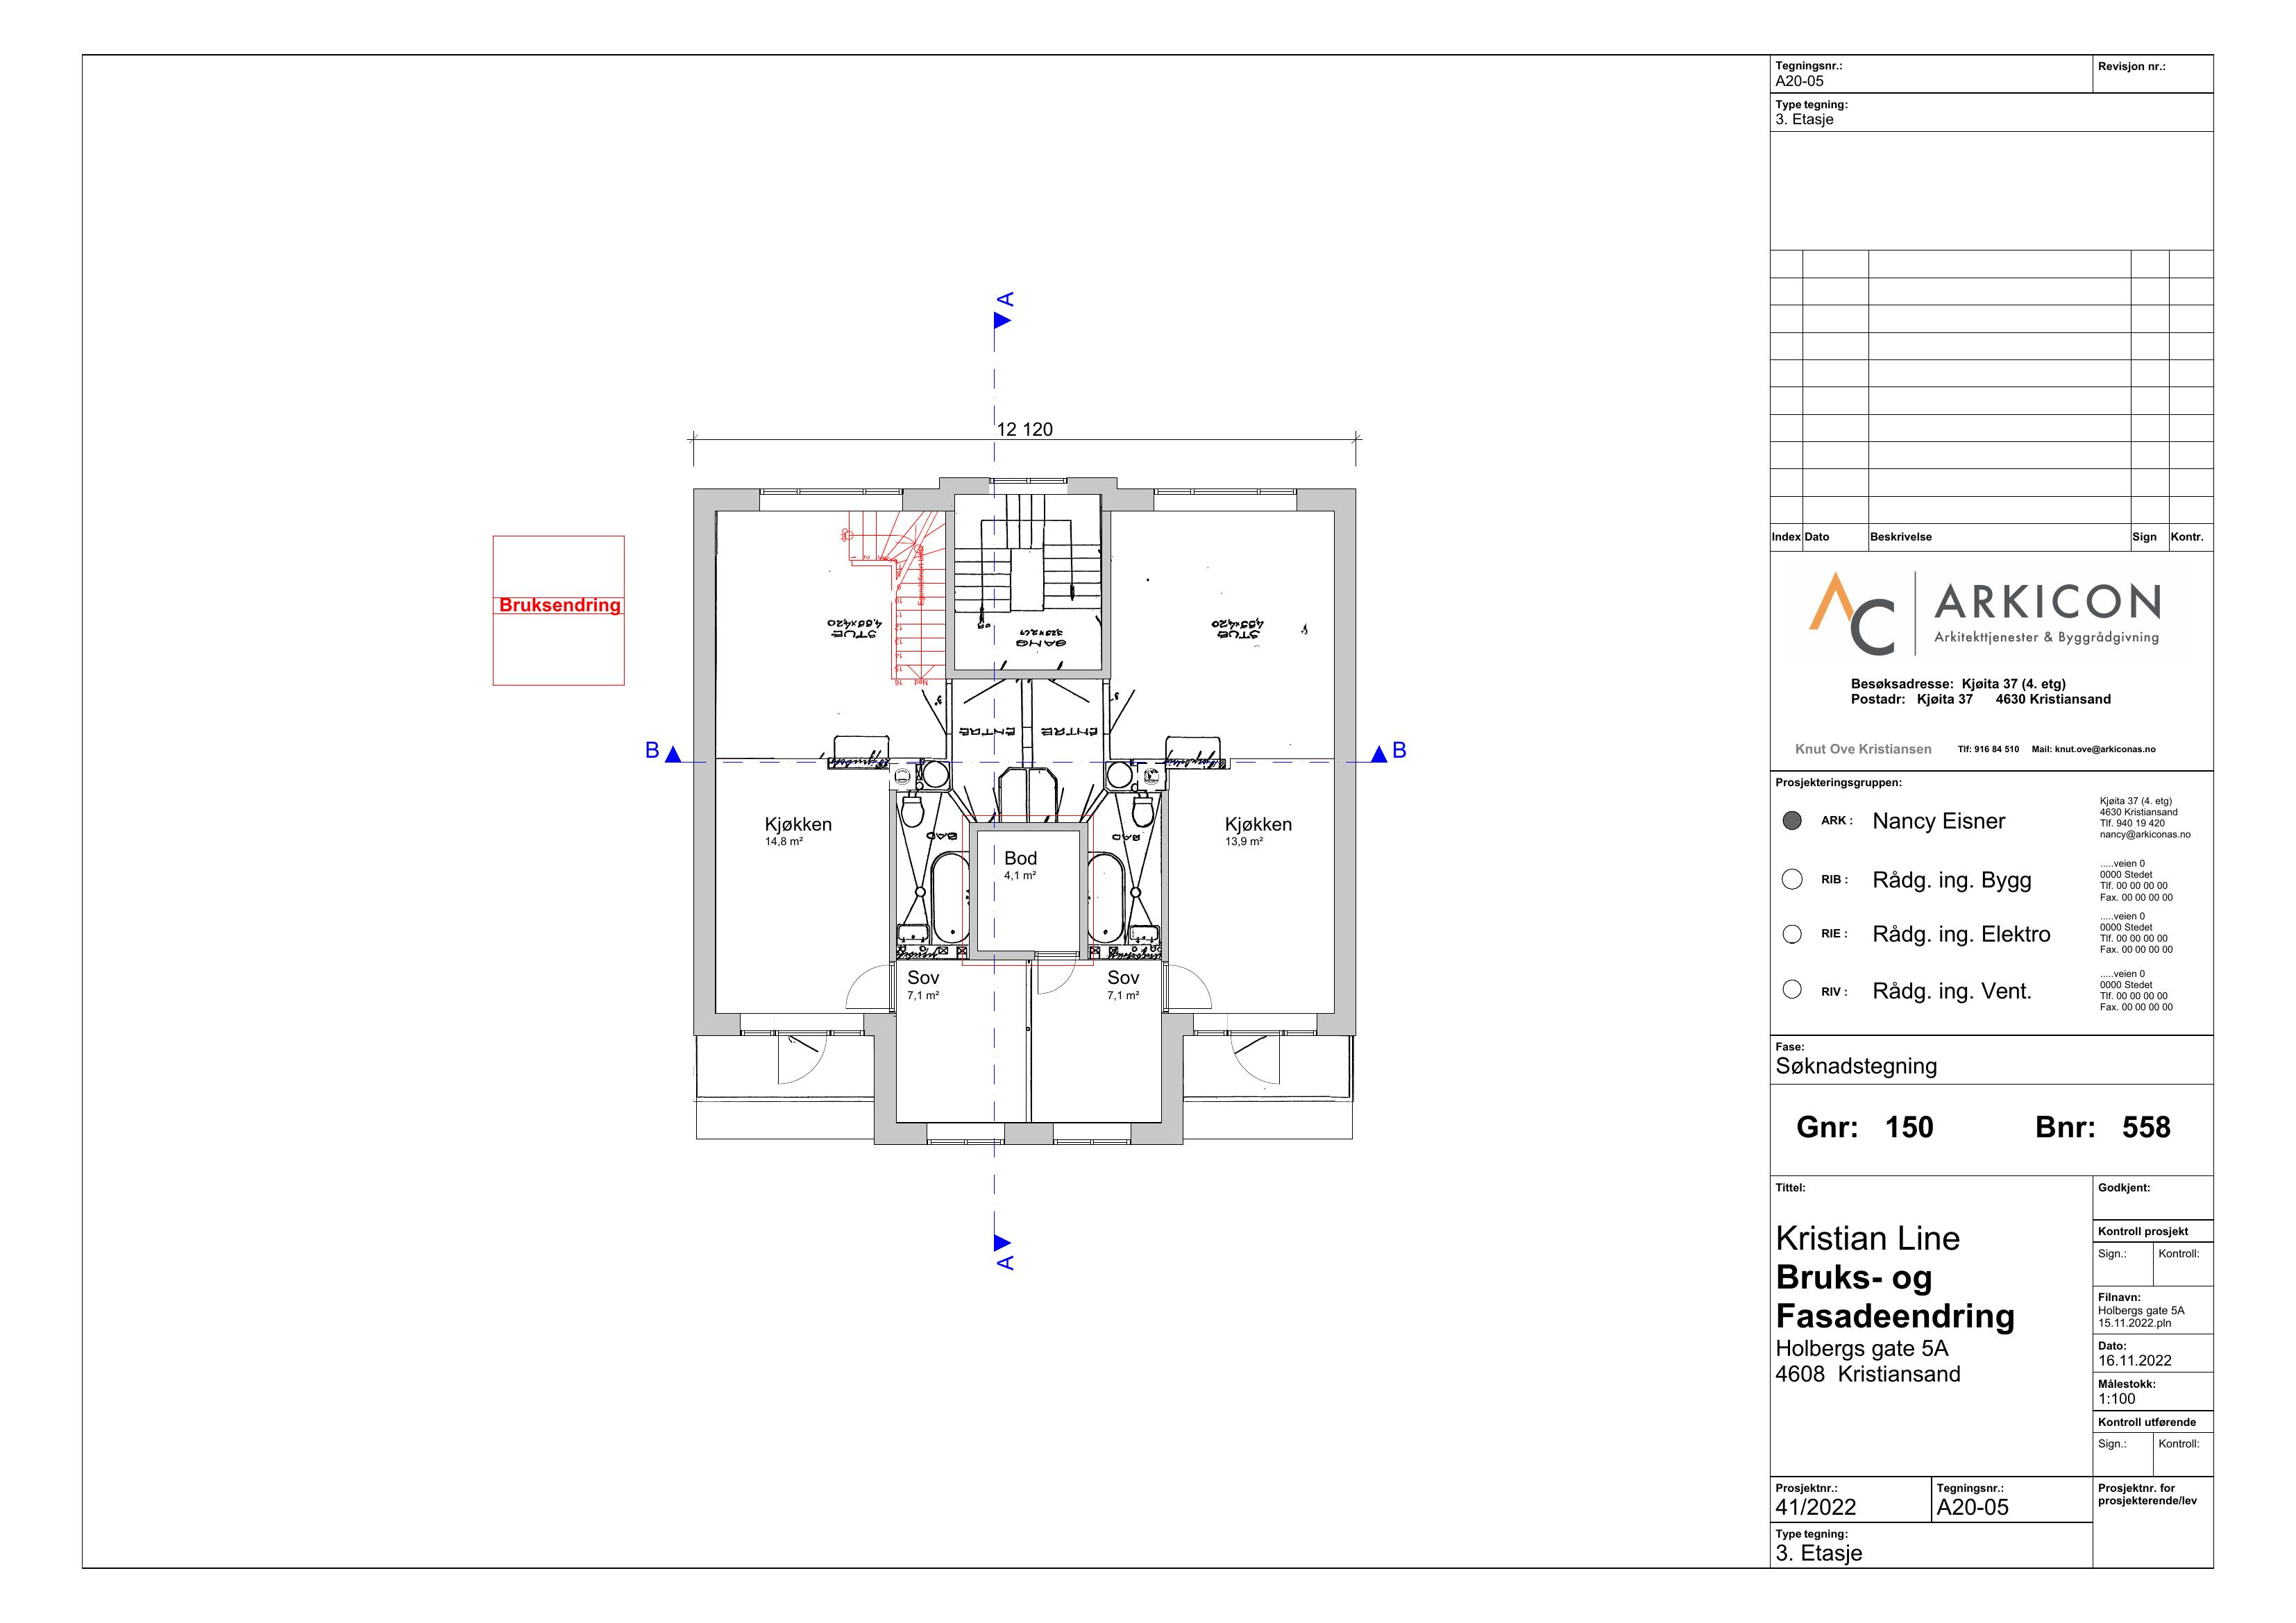plantegning: (629, 399, 1426, 1178)
